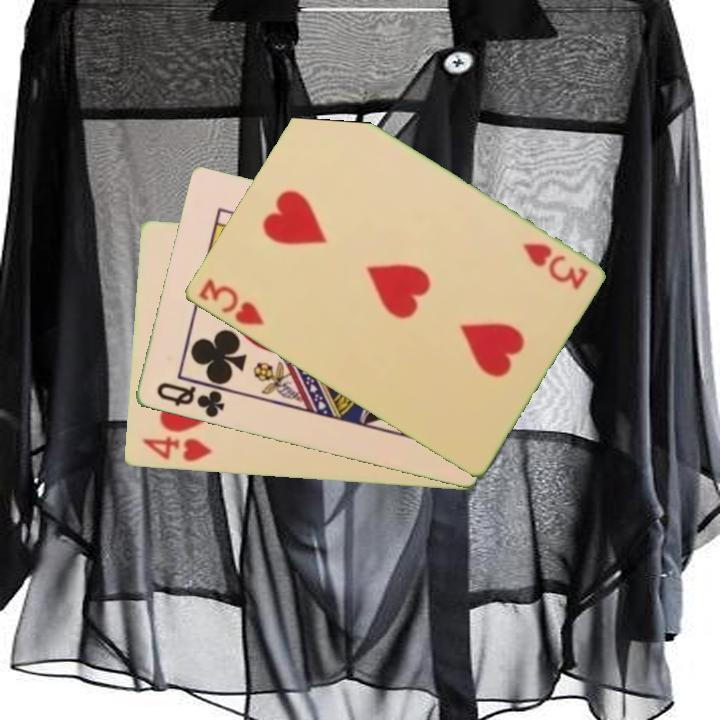3h: (194, 275, 267, 329), (518, 239, 591, 293)
4h: (139, 433, 215, 465)
Qc: (152, 379, 227, 421)
